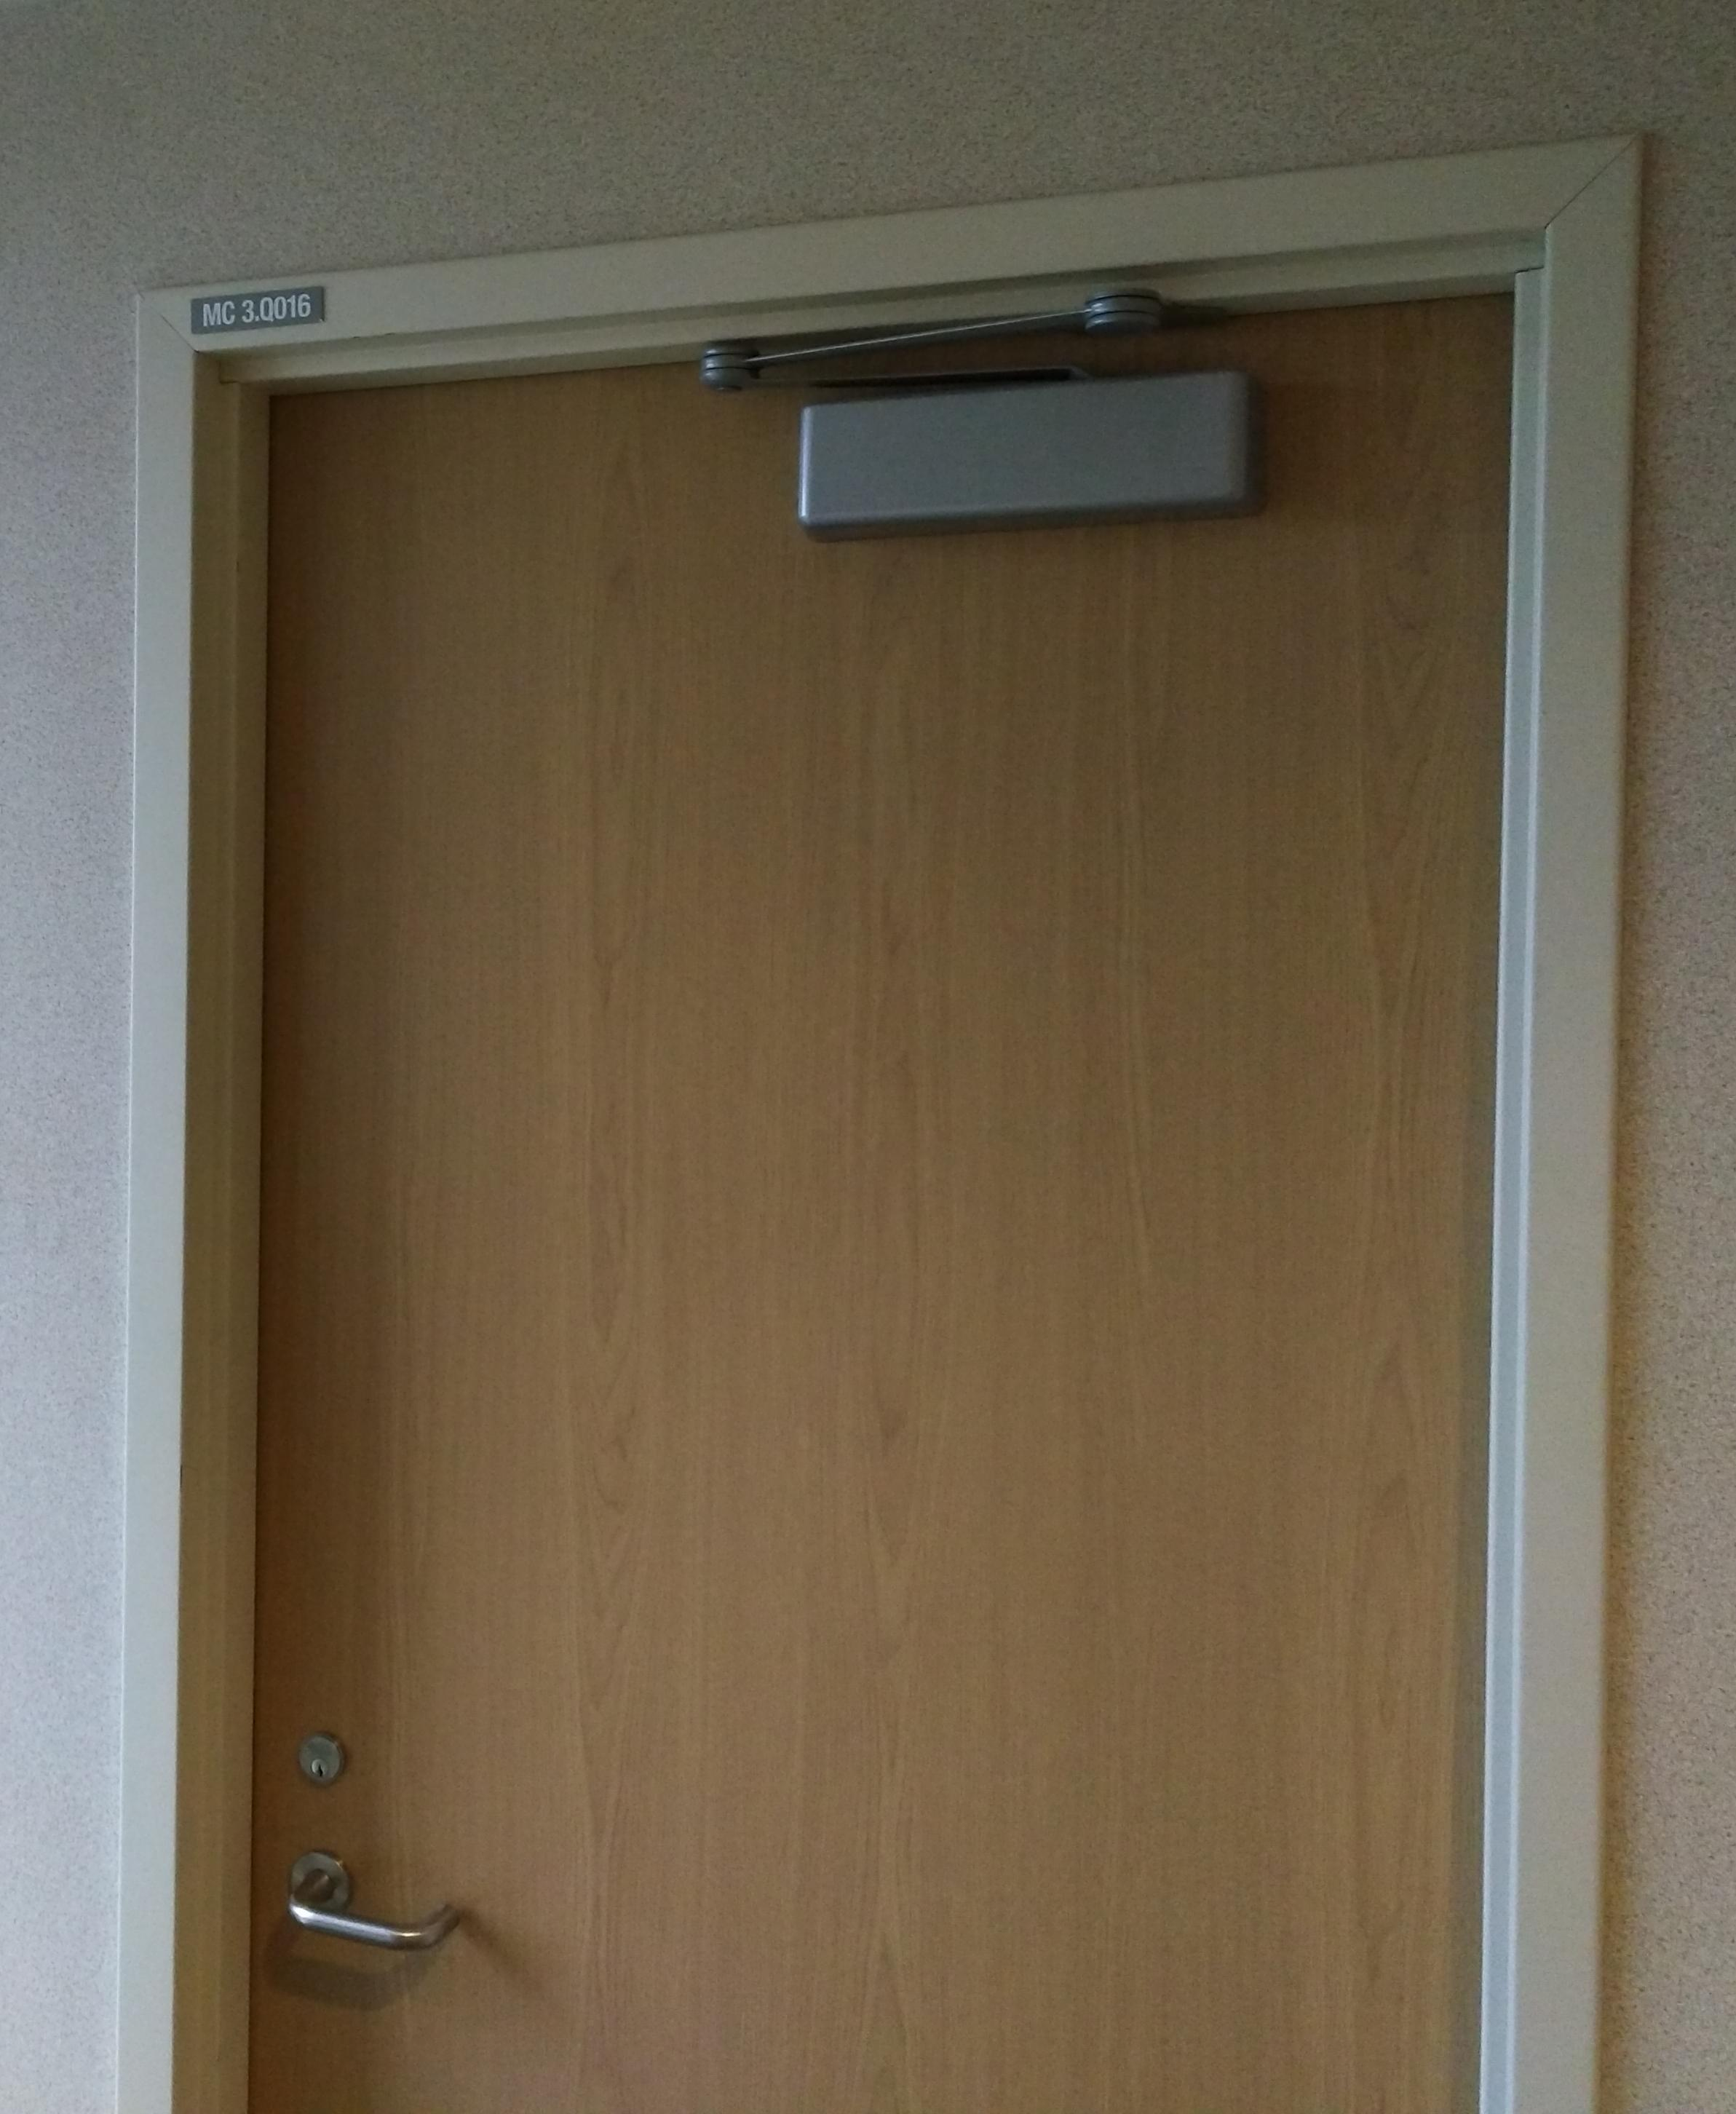door: (121, 135, 1638, 2109)
